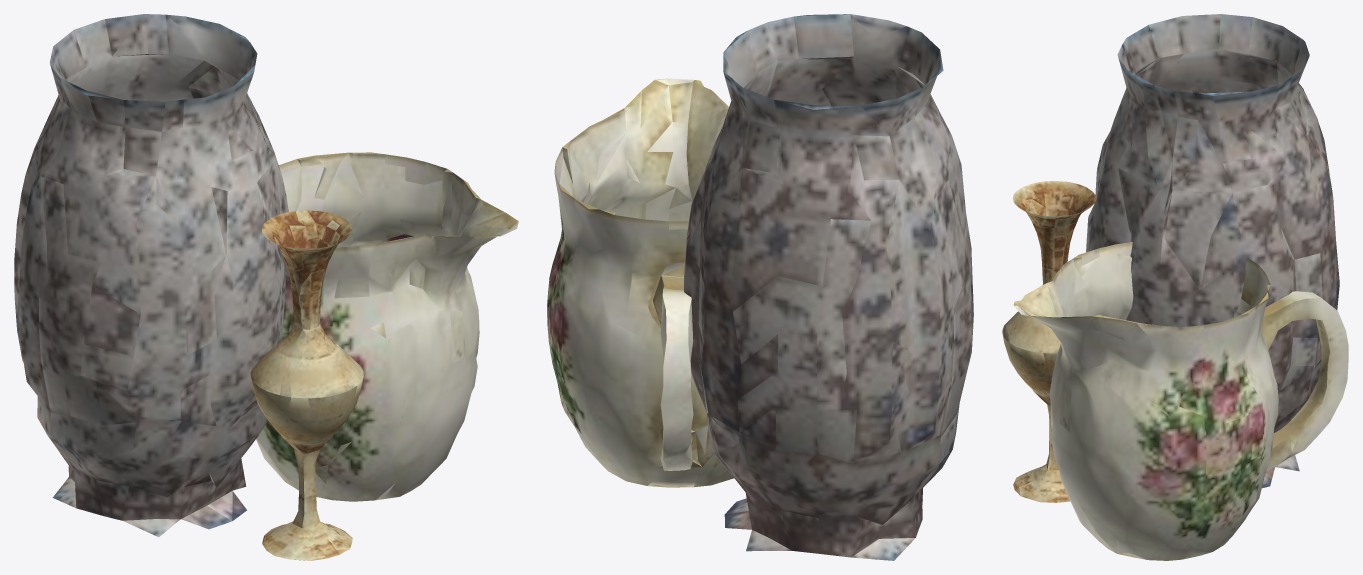
Rendered from vase_trio.glb.
3 renders of one model, left to right at view 1: azimuth 30°, elevation 25°; view 2: azimuth 150°, elevation 25°; view 3: azimuth 270°, elevation 25°, orthographic. The views are drawn at different scales.
Visible parts, largest first — view 1: static; view 2: static; view 3: static.
Boxes of the visible parts, x1,y1,x2,y2 form: static: (14, 14, 518, 560); static: (547, 14, 973, 560); static: (1002, 14, 1348, 560).
Bounding box in the file's own units: 0.8392 × 0.875 × 0.6835.
Materials: 3 (3 with a texture image).
